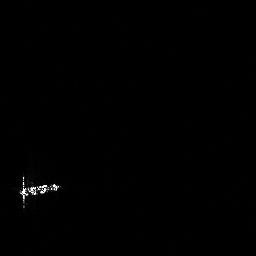ship: (21, 182, 59, 196)
